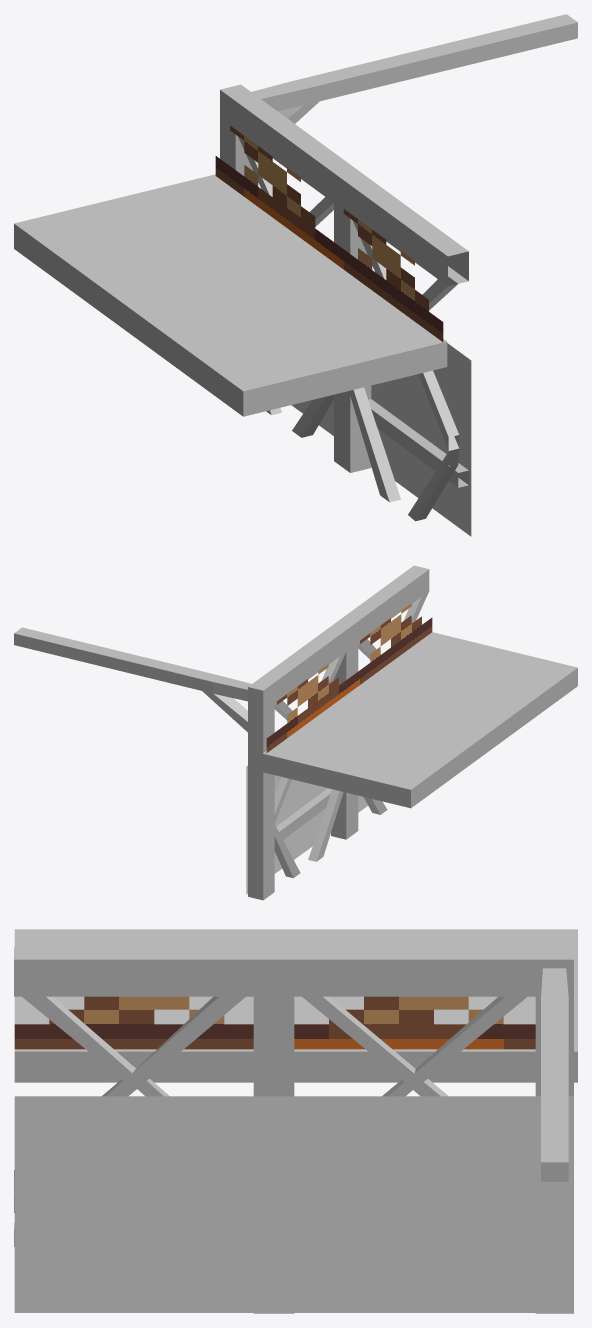
Rendered from bridgepiece.fbx.
3 views of the same model, one above another, from view 1: azimuth 30°, elevation 25°; view 2: azimuth 150°, elevation 25°; view 3: azimuth 270°, elevation 25° (orthographic). The views are drawn at different scales.
Parts seen in each view (by area): view 1: path, beams, grate.001, grate.002; view 2: path, beams, grate.001, grate.002; view 3: grate.002, beams, path, grate.001.
Boxes of the visible parts, bbox=[...] form: path: bbox=[14, 174, 447, 416]; beams: bbox=[220, 14, 577, 521]; grate.001: bbox=[215, 125, 443, 341]; grate.002: bbox=[291, 343, 471, 536]; path: bbox=[262, 632, 577, 808]; beams: bbox=[14, 565, 429, 900]; grate.001: bbox=[266, 603, 432, 752]; grate.002: bbox=[246, 765, 367, 894]; grate.002: bbox=[14, 1096, 573, 1312]; beams: bbox=[14, 947, 573, 1313]; path: bbox=[14, 929, 577, 1082]; grate.001: bbox=[14, 996, 535, 1049].
Size of the model in its own units: 2180 by 1093 by 1579.
